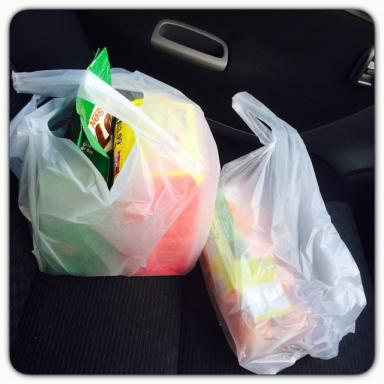plasticbag: (196, 88, 366, 377), (9, 65, 219, 279)
